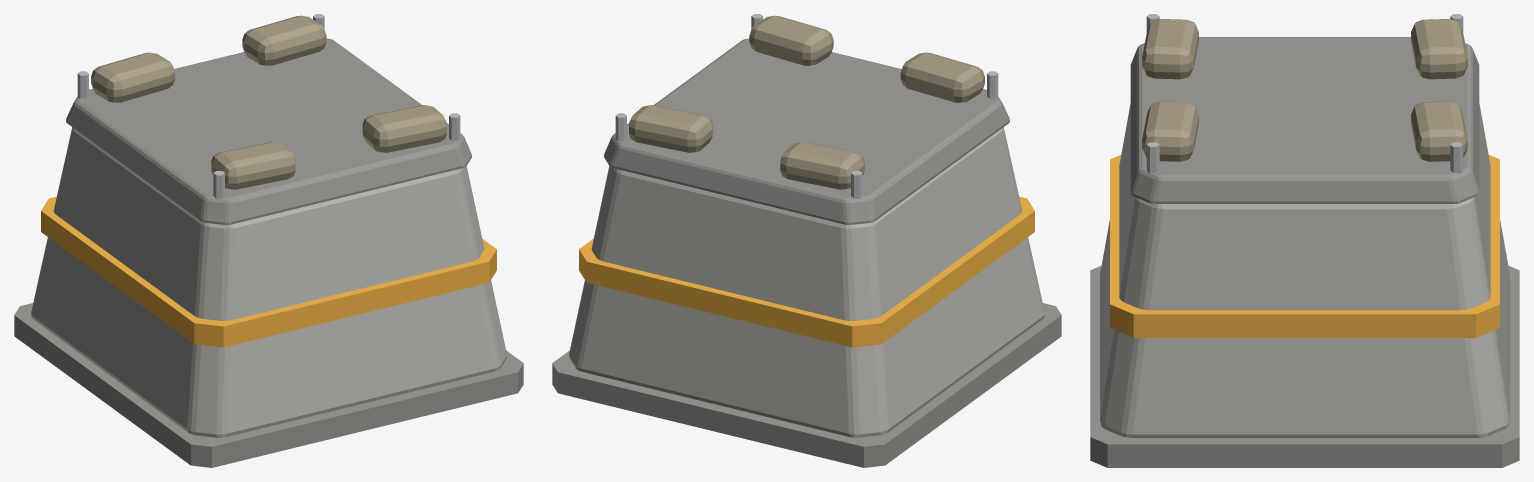
The model's file is wall_orange.glb.
3 renders of one model, left to right at view 1: azimuth 30°, elevation 25°; view 2: azimuth 150°, elevation 25°; view 3: azimuth 270°, elevation 25°, orthographic. The views are drawn at different scales.
Parts seen in each view (by area): view 1: Body; view 2: Body; view 3: Body.
Boxes of the visible parts, x1,y1,x2,y2 form: Body: (14,14,523,467); Body: (552,14,1061,467); Body: (1090,14,1519,467).
Bounding box in the file's own units: 1.98 × 1.54 × 1.98.
